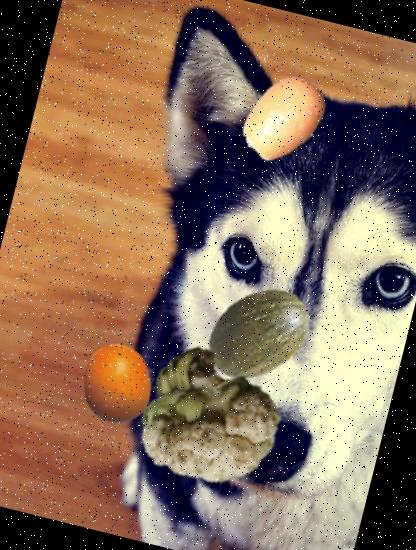Cauliflower: (119, 328, 294, 504)
Grapefruit: (68, 336, 166, 432)
Kumquats: (228, 62, 341, 175)
Melon: (192, 268, 324, 400)
